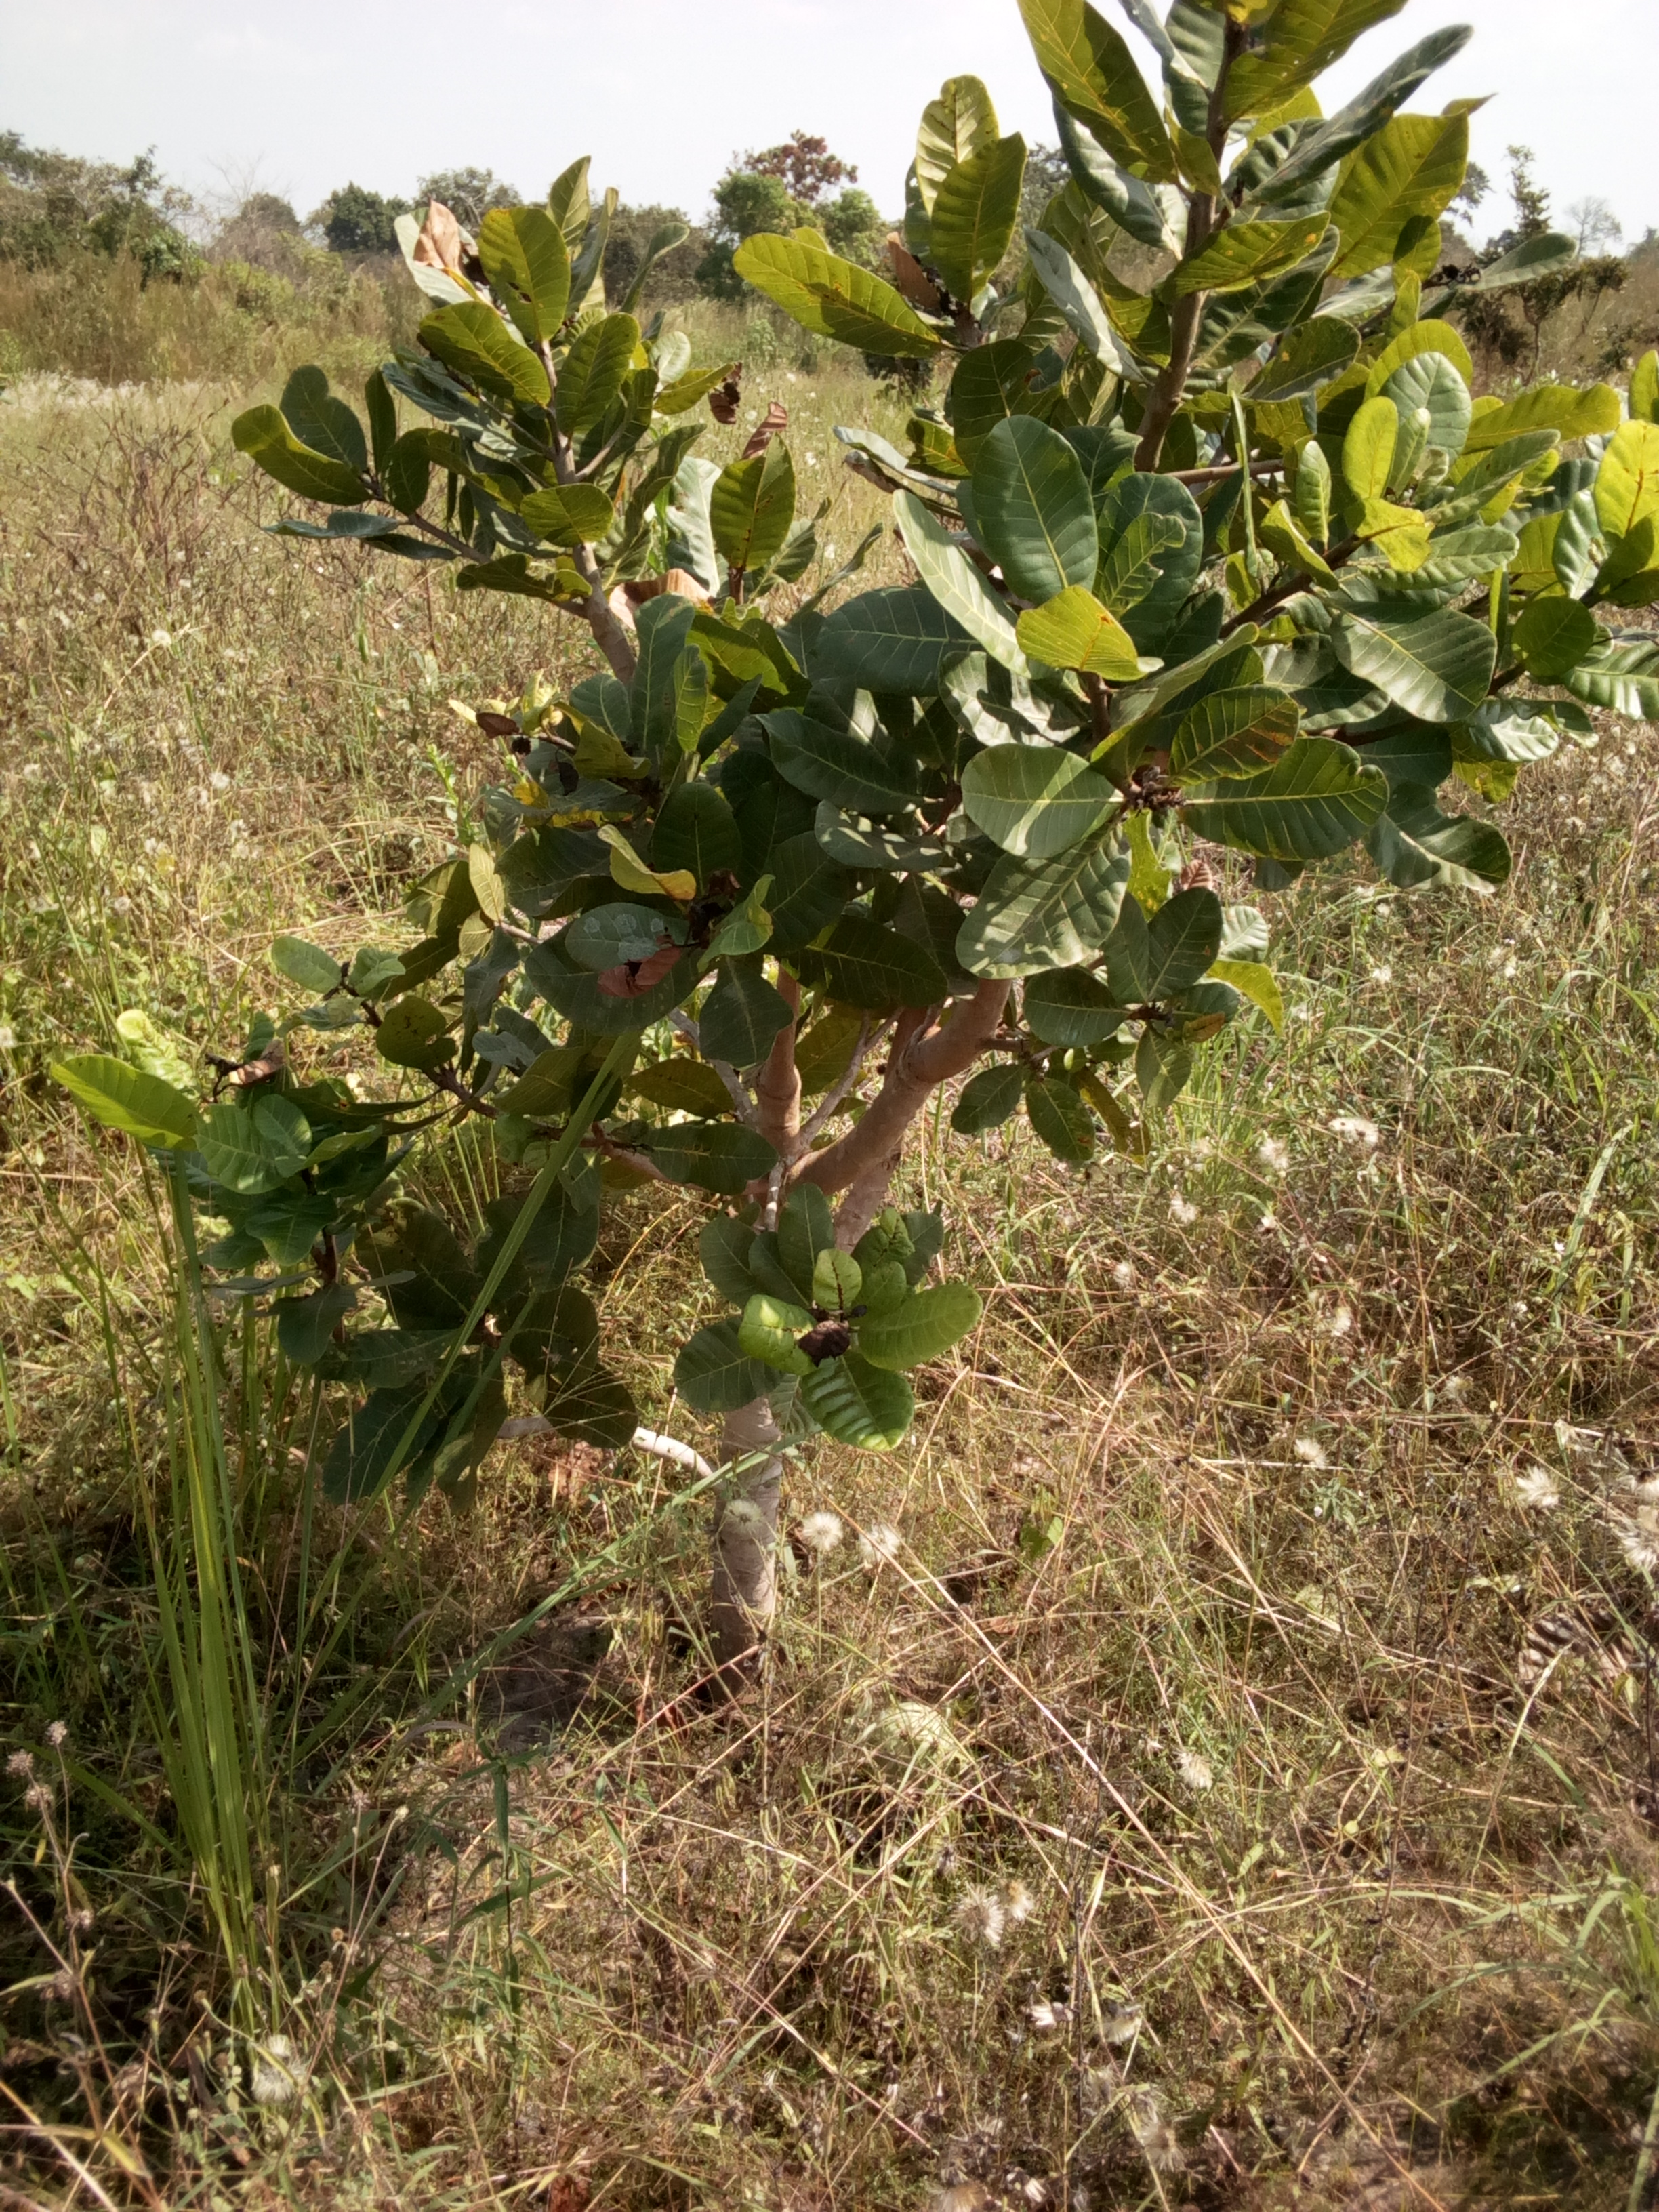Helopeltis anacardii: (945, 815, 1127, 974)
